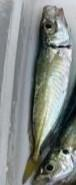fish: (22, 4, 75, 184)
